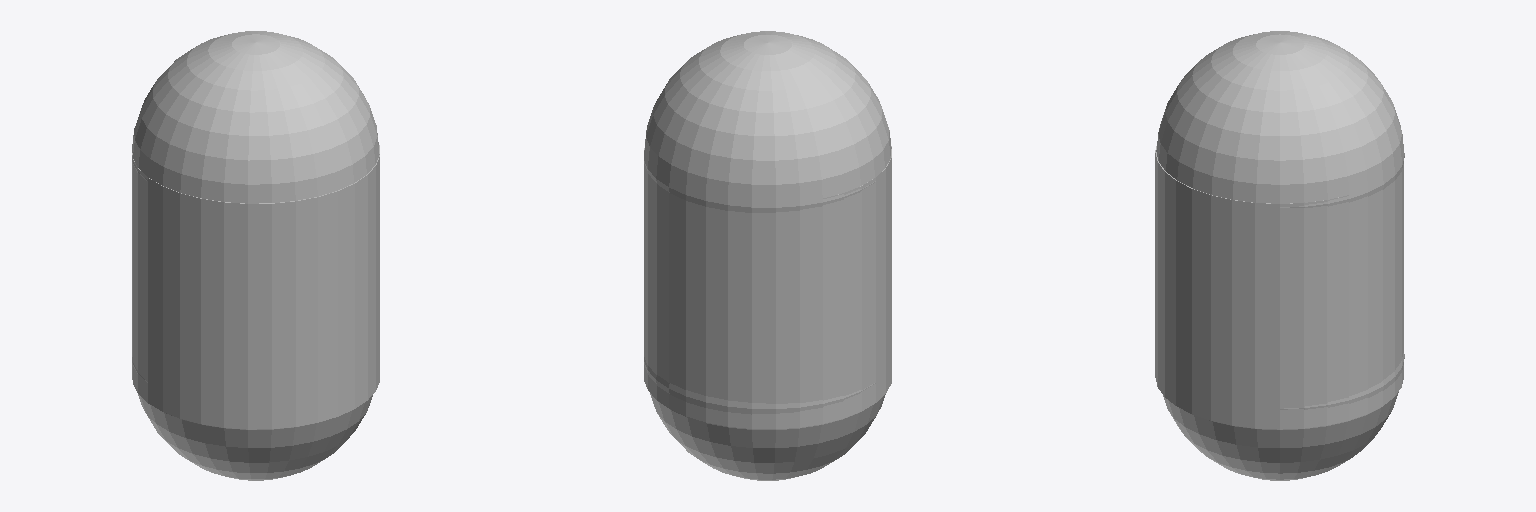
Rendered from pill.obj.
3 views of the same model, side by side, from view 1: azimuth 30°, elevation 25°; view 2: azimuth 150°, elevation 25°; view 3: azimuth 270°, elevation 25° (orthographic).
Visible parts, largest first — view 1: Cylinder; view 2: Cylinder; view 3: Cylinder.
Part boxes in pixels (bbox=[...]): Cylinder: bbox=[132, 31, 379, 480]; Cylinder: bbox=[644, 31, 891, 480]; Cylinder: bbox=[1155, 31, 1404, 480].
Size of the model in its own units: 2 by 3.79 by 2.01.